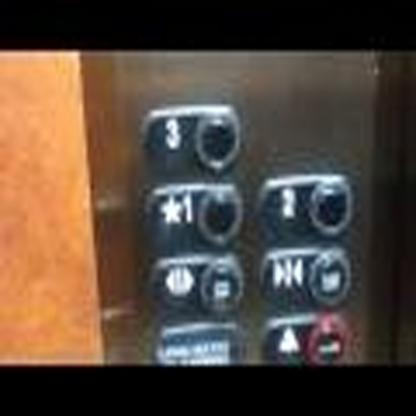2: (257, 172, 353, 237)
3: (142, 102, 242, 175)
alarm: (261, 314, 348, 366)
close: (258, 248, 350, 308)
open: (148, 250, 242, 313)
s1: (144, 183, 242, 244)
